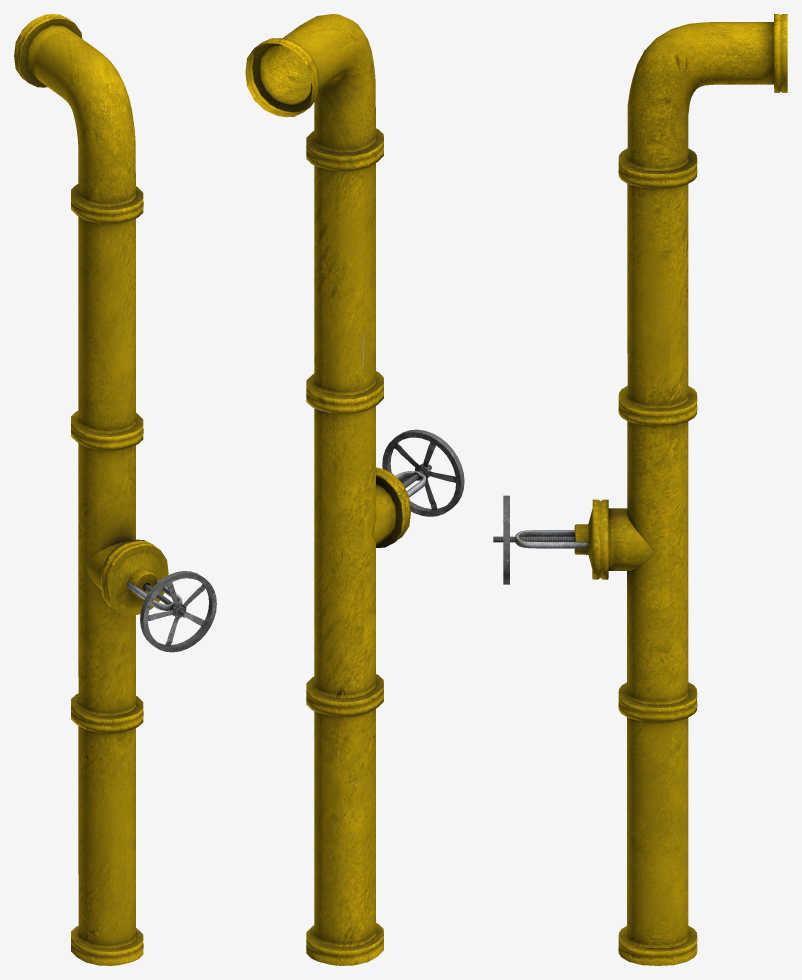
The model's file is SM_PipeValve.fbx.
The picture shows the model from 3 angles, left to right: view 1: azimuth 30°, elevation 25°; view 2: azimuth 150°, elevation 25°; view 3: azimuth 270°, elevation 25°; orthographic projection. The views are drawn at different scales.
Parts seen in each view (by area): view 1: Pipes, Valve; view 2: Pipes, Valve; view 3: Pipes, Valve.
Part boxes in pixels (<box>): Pipes: <box>14,14,182,965</box>; Valve: <box>140,571,216,652</box>; Pipes: <box>245,14,425,965</box>; Valve: <box>382,429,464,516</box>; Pipes: <box>515,14,787,965</box>; Valve: <box>493,495,574,584</box>.
Size of the model in its own units: 32.25 by 373 by 107.
2 materials, 2 textured.
